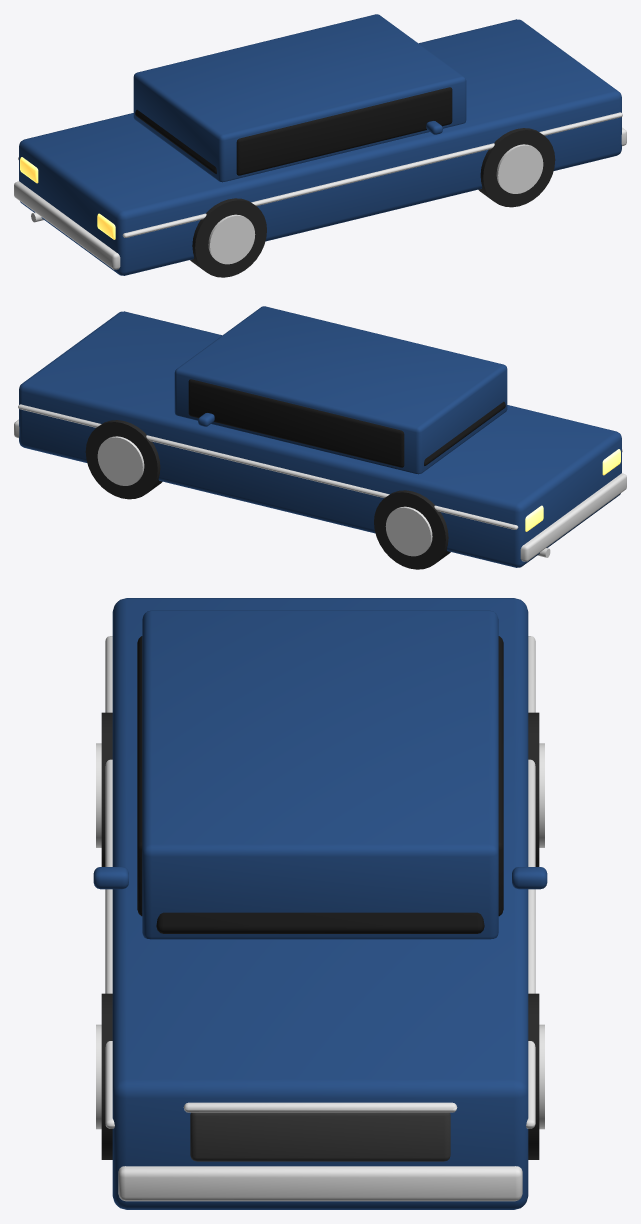
Rendered from car.fbx.
The picture shows the model from 3 angles, top to bottom: view 1: azimuth 30°, elevation 25°; view 2: azimuth 150°, elevation 25°; view 3: azimuth 270°, elevation 25°; orthographic projection. The views are drawn at different scales.
Visible parts, largest first — view 1: Car_Lower_Body, Car_Cabin, Window_Side_R, Wheel_FR_Tire, Wheel_RR_Tire, Trim_R, Bumper_Rear, Wheel_RR_Hubcap, Wheel_FR_Hubcap, Windshield_Rear; view 2: Car_Lower_Body, Car_Cabin, Window_Side_L, Wheel_FL_Tire, Wheel_RL_Tire, Trim_L, Bumper_Rear, Wheel_RL_Hubcap, Wheel_FL_Hubcap, Windshield_Rear; view 3: Car_Cabin, Car_Lower_Body, Bumper_Front, Grille_Main, Windshield_Front, Trim_L, Trim_R, Grille_Trim_Top, Window_Side_L, Window_Side_R, Wheel_FL_Tire, Wheel_FR_Tire (+2 smaller).
Boxes of the visible parts, x1,y1,x2,y2 form: Car_Lower_Body: (19,19,621,275); Car_Cabin: (133,14,466,182); Window_Side_R: (236,87,452,175); Wheel_FR_Tire: (478,128,555,207); Wheel_RR_Tire: (190,198,266,277); Trim_R: (122,112,622,237); Bumper_Rear: (14,181,120,269); Wheel_RR_Hubcap: (208,214,255,264); Wheel_FR_Hubcap: (496,144,543,193); Windshield_Rear: (135,109,216,173); Car_Lower_Body: (19,311,621,567); Car_Cabin: (174,306,507,474); Window_Side_L: (188,379,404,467); Wheel_FL_Tire: (85,420,162,499); Wheel_RL_Tire: (374,490,450,569); Trim_L: (18,404,518,529); Bumper_Rear: (520,473,626,561); Wheel_RL_Hubcap: (385,506,432,556); Wheel_FL_Hubcap: (97,436,144,485); Windshield_Rear: (424,401,505,465); Car_Cabin: (142,610,498,939); Car_Lower_Body: (112,598,528,1209); Bumper_Front: (118,1166,522,1201); Grille_Main: (190,1112,450,1161); Windshield_Front: (156,912,484,933); Trim_L: (526,636,535,1128); Trim_R: (105,636,114,1128); Grille_Trim_Top: (183,1102,457,1112); Window_Side_L: (498,636,503,916); Window_Side_R: (137,636,142,916); Wheel_FL_Tire: (528,993,539,1159); Wheel_FR_Tire: (101,993,112,1159).
Size of the model in its own units: 5 by 1.91 by 1.22.
